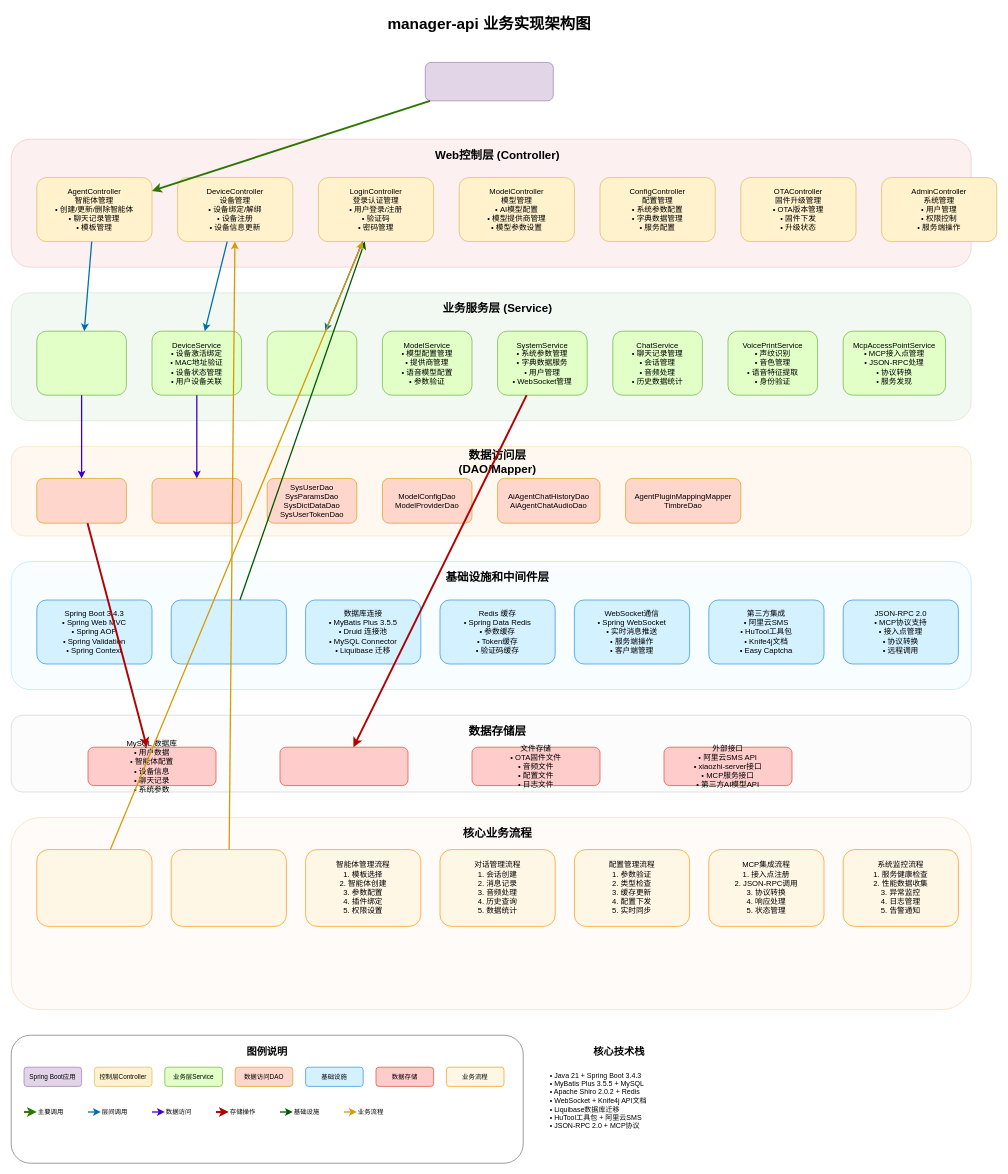
This 1008x1174 diagram has some shape labels left out. Here are the shapes that lost their labels. From the top down, the box of each, then its label:
(425, 62, 553, 101): AdminApplication Spring Boot 主应用 端口: 8002
(36, 331, 126, 395): AgentService • 智能体CRUD • 权限检查 • 模板管理 • 插件映射
(267, 331, 357, 395): SecurityService • Token管理 • 密码加密 • 验证码服务 • 短信服务
(36, 478, 126, 523): AgentDao AgentTemplateDao AgentVoicePrintDao
(151, 478, 242, 523): DeviceDao OtaDao
(171, 599, 286, 664): Apache Shiro 2.0.2 • 认证授权 • Token管理 • 权限控制 • Session管理
(279, 747, 408, 786): Redis 存储 • Token缓存 • 验证码存储 • 参数缓存 • 会话数据
(36, 849, 152, 926): 用户认证流程 1. 验证码生成 2. 用户名密码验证 3. Token生成 4. 权限检查 5. Session管理
(171, 849, 286, 926): 设备管理流程 1. 设备注册(MAC) 2. 验证码生成 3. 设备绑定 4. 智能体关联 5. 状态同步
